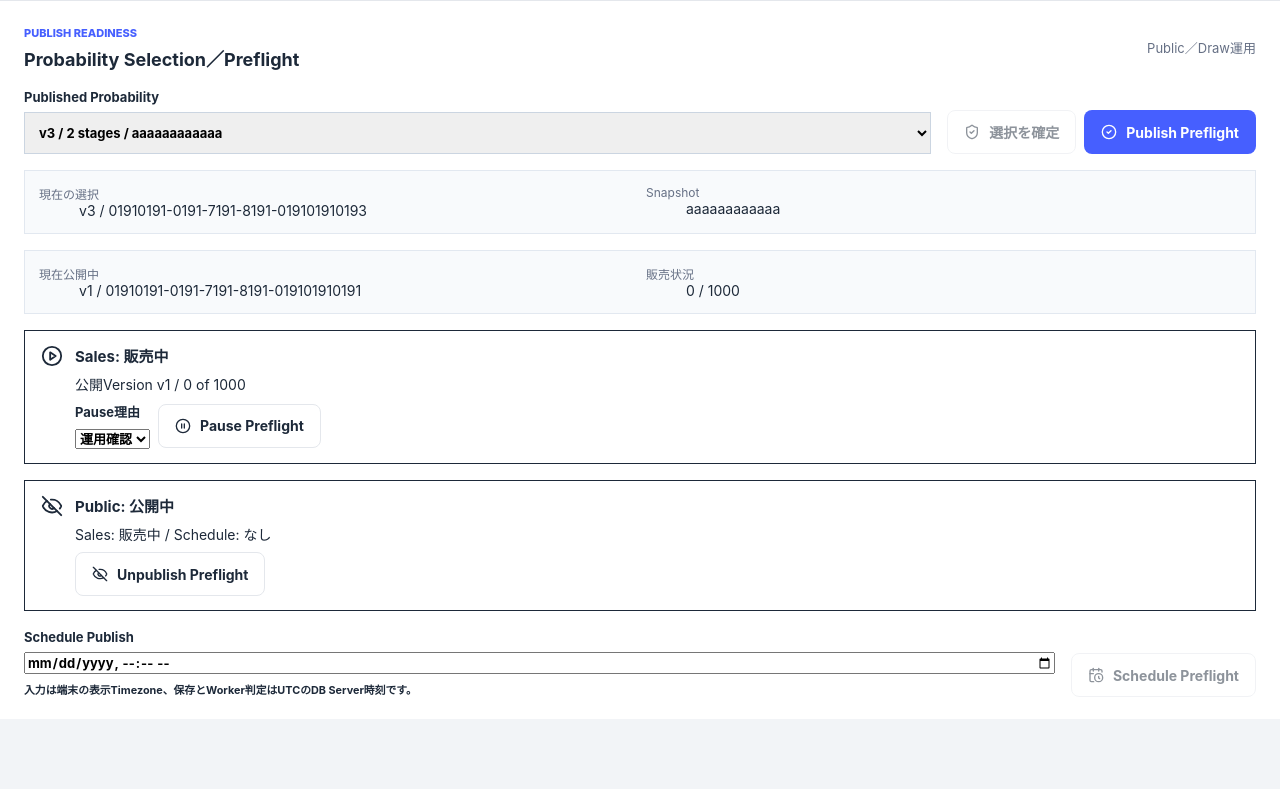
Test case: Gacha Publish Preflight › renders canonical server blockers and keeps publish unavailable
Check: the text "aaaaaaaaaaaa" is shown, box [686,200,780,217]
Step 1. Click the button "Publish Preflight" → {"x": 1170, "y": 132}, box [1084,110,1256,154]
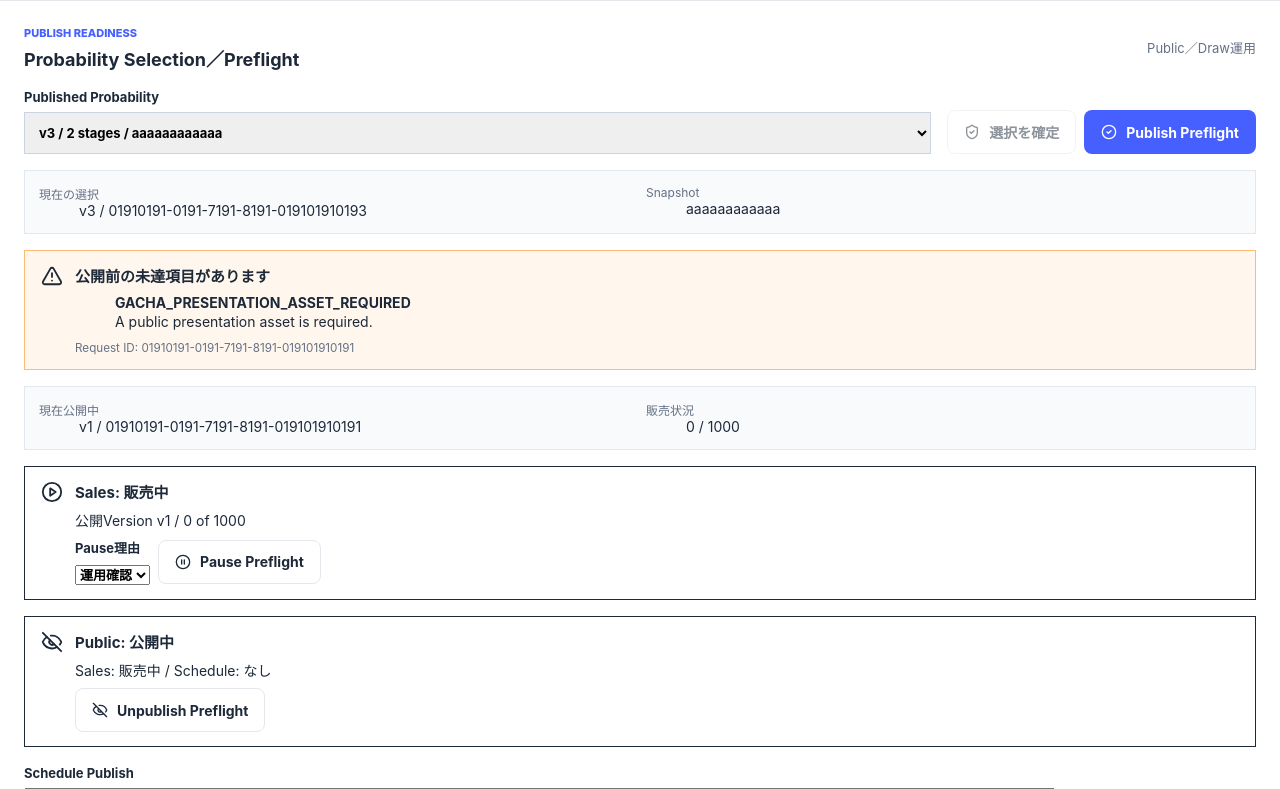
Check: the heading "Public: 公開中" is shown, box [75,633,174,652]
Check: the text "GACHA_PRESENTATION_ASSET_REQUIRED" is shown, box [115,294,411,311]
